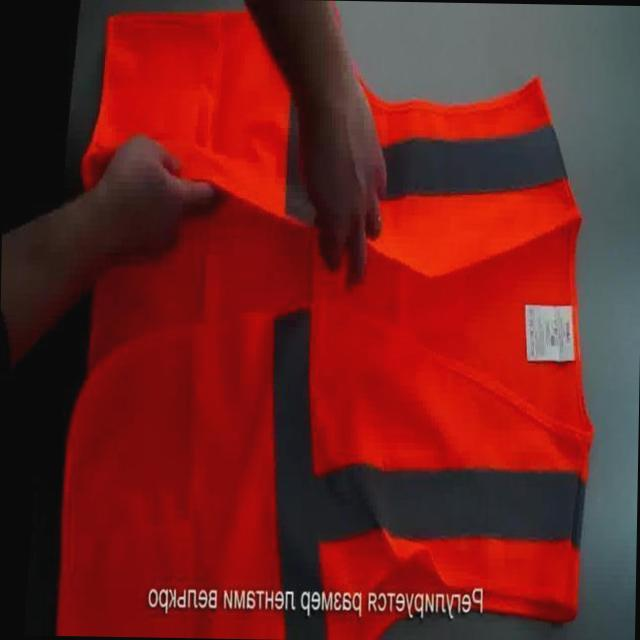vest: (55, 0, 601, 640)
